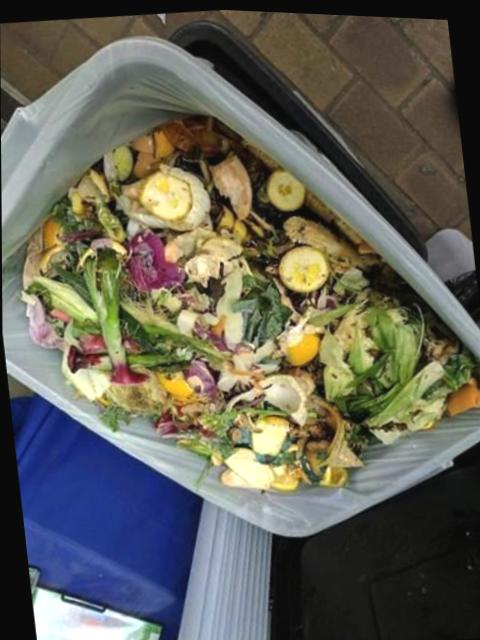Garbage: (3, 113, 480, 506)
